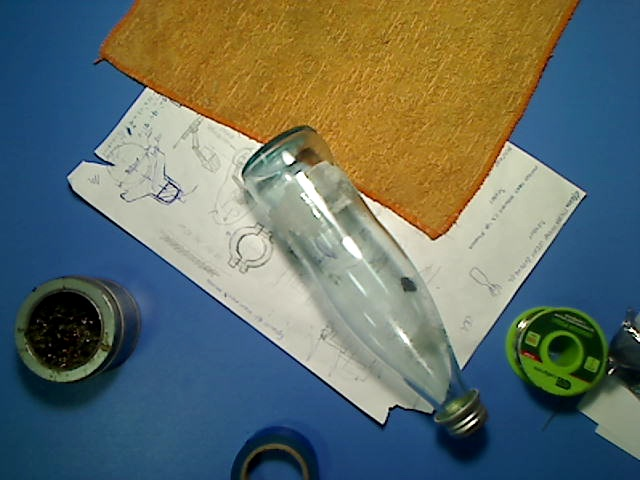bottle: (240, 124, 492, 440)
